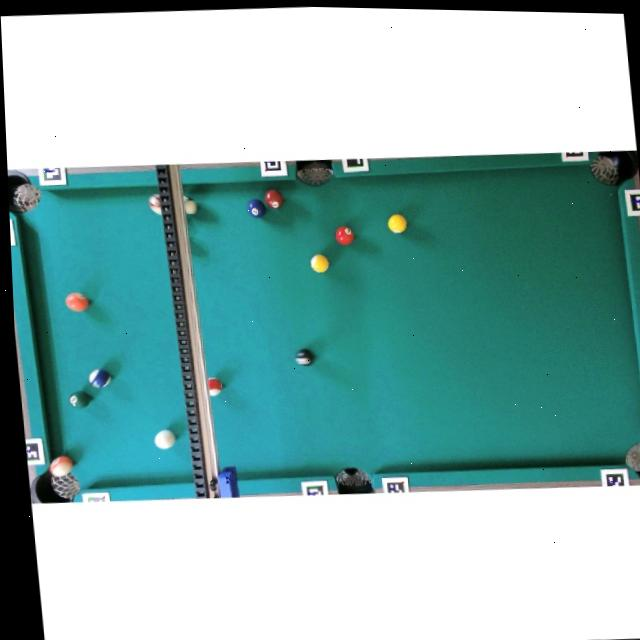cue ball: (153, 429, 176, 450)
other: (49, 455, 75, 478), (65, 292, 90, 313), (88, 368, 112, 389), (68, 390, 92, 409), (387, 214, 408, 234), (335, 225, 355, 246), (146, 192, 163, 216), (264, 189, 284, 209), (310, 254, 330, 273), (248, 198, 267, 218), (295, 348, 313, 366), (208, 377, 223, 397)
